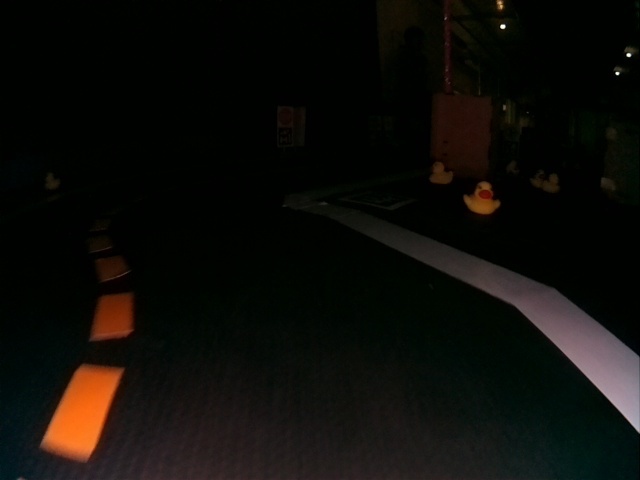Duckie: (466, 181, 500, 214), (429, 163, 454, 185), (544, 175, 559, 192), (45, 172, 60, 189), (530, 170, 542, 187), (509, 161, 519, 175)
QR code: (341, 191, 415, 212), (278, 127, 294, 145)
Stop sign: (279, 107, 293, 125)
